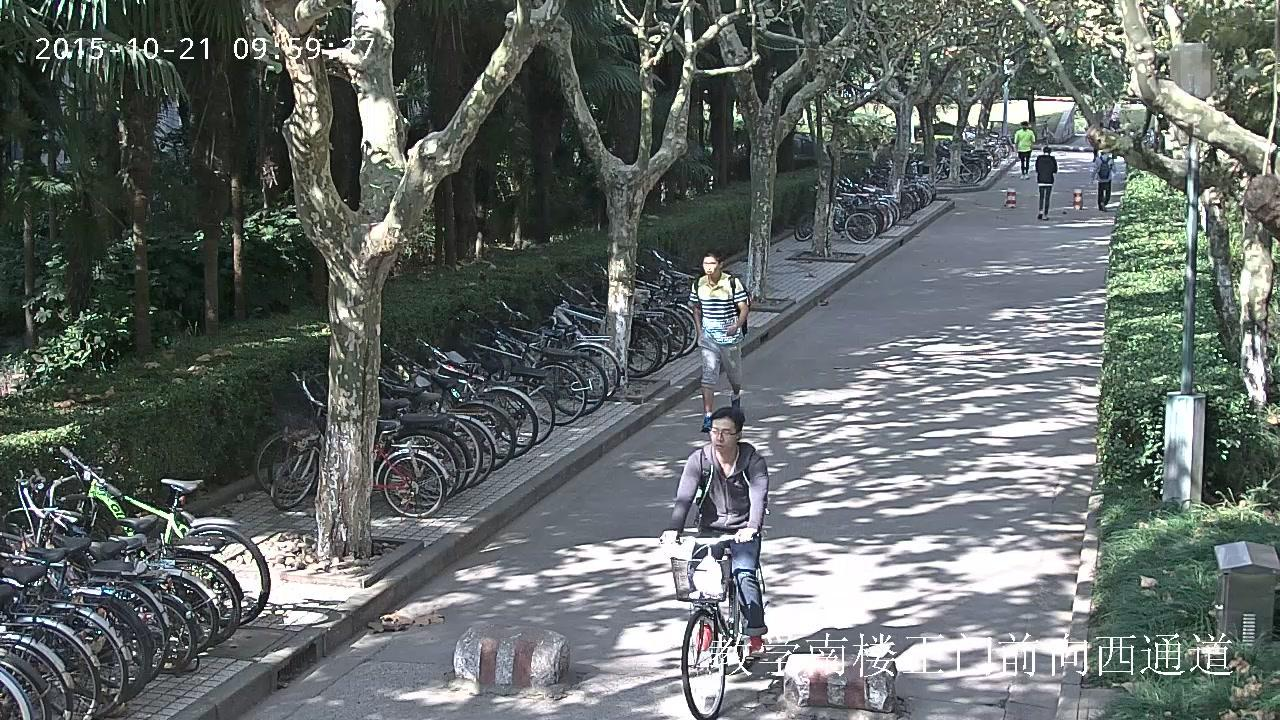face: (710, 418, 736, 450), (703, 256, 718, 274), (1021, 125, 1028, 129)
